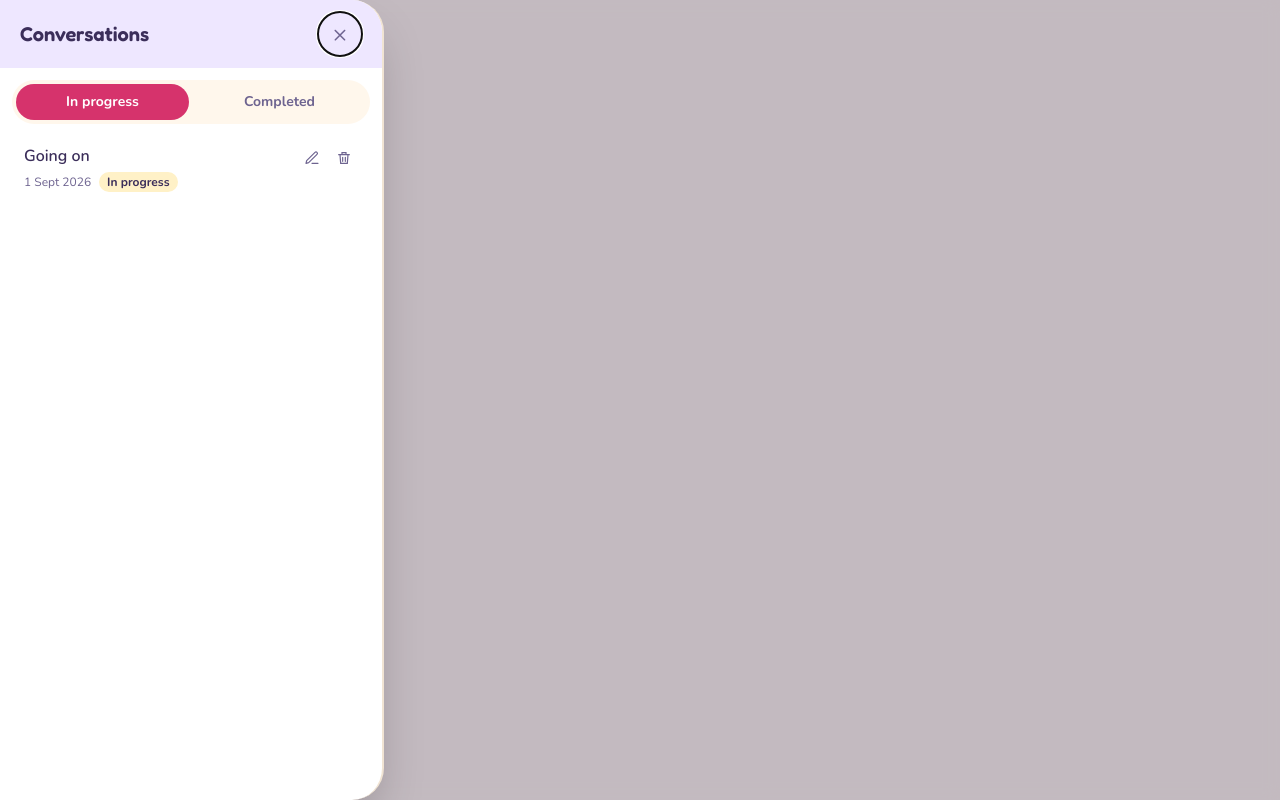
Scenario: tabs › says when a tab has nothing in it
Expected: the button "Going on" is shown, [24,144,294,168]
Click the tab "Completed".
click(280, 102)  # box [193,84,366,120]
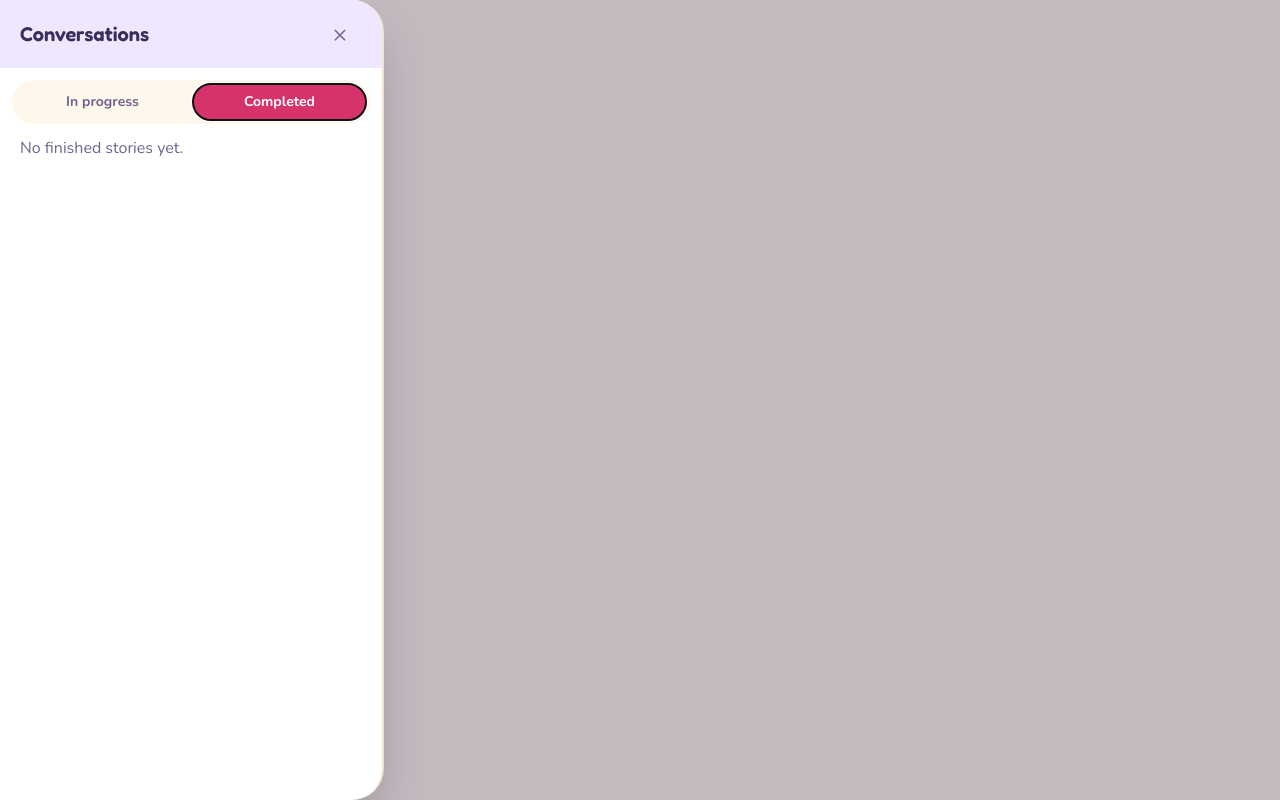
Expected: the text "No finished stories yet." is shown, [20,137,183,159]
